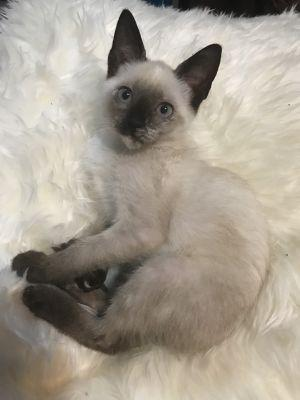siamese: (83, 4, 231, 163)
